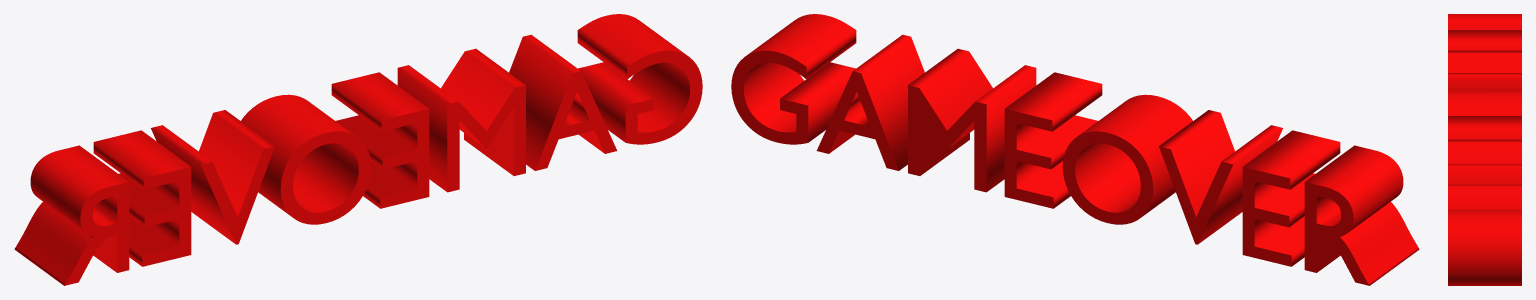
Rendered from GAMEOVER.obj.
3 views of the same model, side by side, from view 1: azimuth 30°, elevation 25°; view 2: azimuth 150°, elevation 25°; view 3: azimuth 270°, elevation 25° (orthographic). The views are drawn at different scales.
Visible parts, largest first — view 1: テキスト; view 2: テキスト; view 3: テキスト.
Boxes of the visible parts, x1,y1,x2,y2 form: テキスト: (14,14,702,285); テキスト: (731,14,1419,285); テキスト: (1448,14,1521,285).
Size of the model in its own units: 5.17 by 0.7 by 0.7.
Materials: 1 (1 with a texture image).
